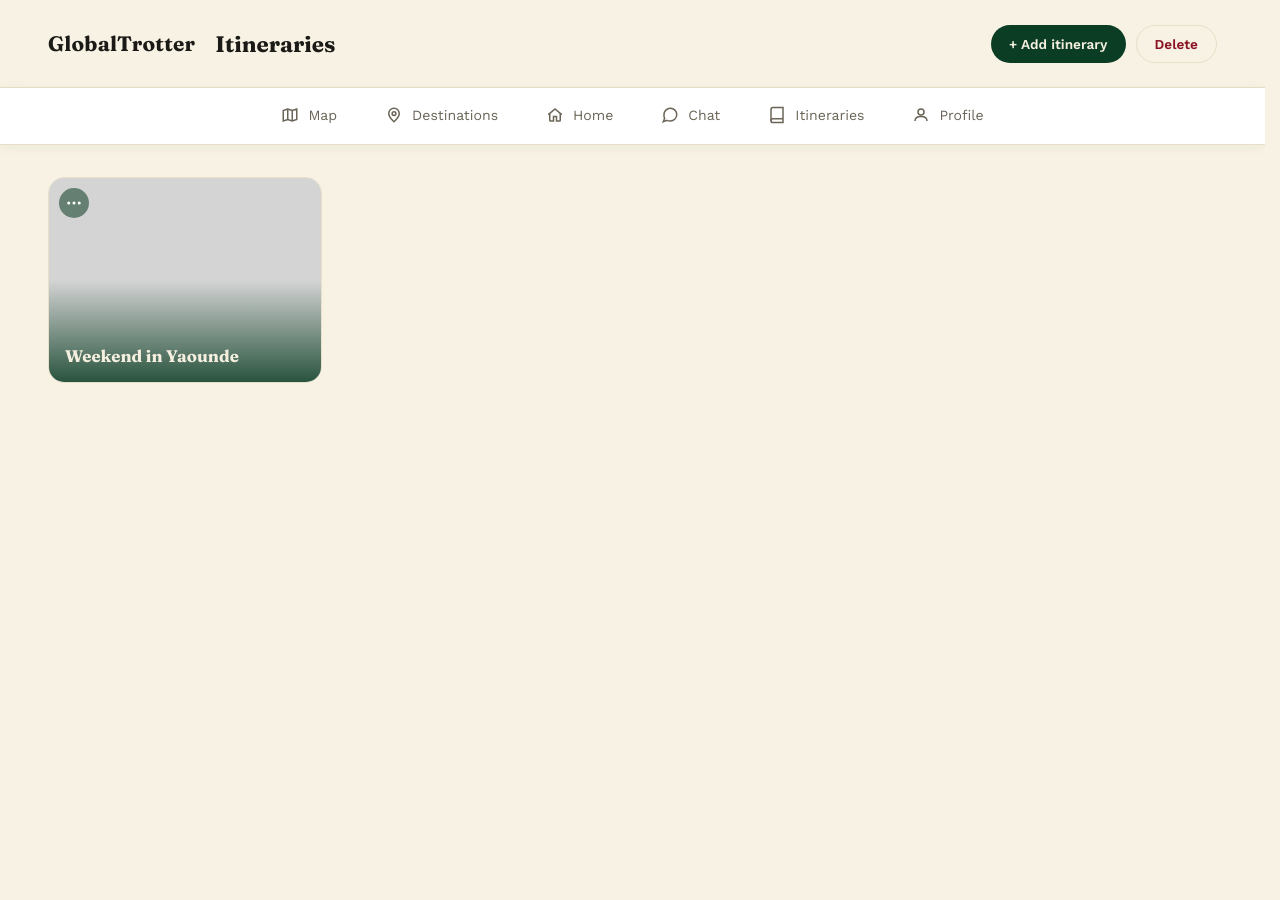
Itineraries › the itineraries options menu opens a delete confirmation dialog
The width and height of the screenshot is (1280, 900).
Expected: the heading "Weekend in Yaounde" is shown, [65,346,239,366]
Step 1. Click the button named "itinerary options" → (74, 203), box [59,188,89,218]
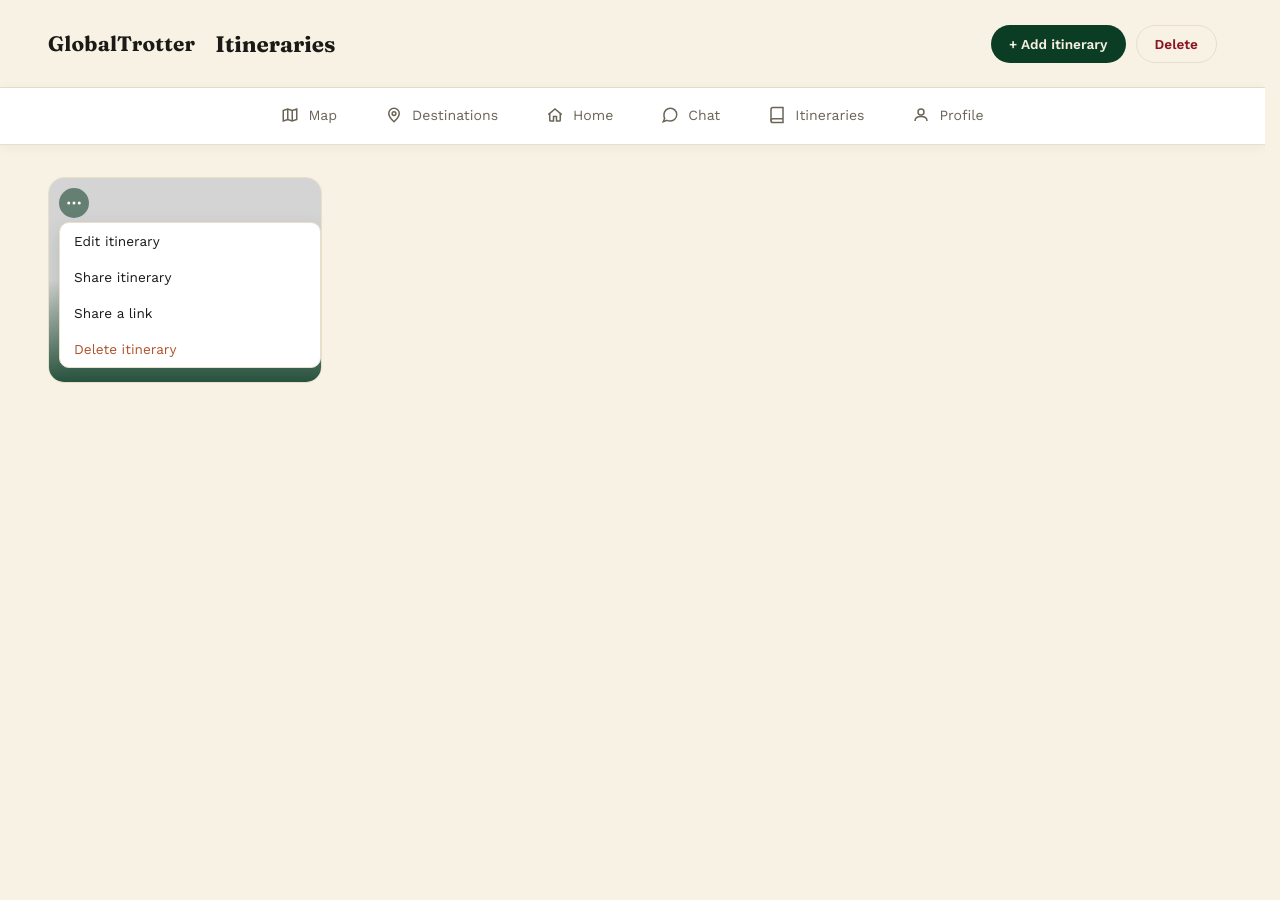
Step 2. Click the button "Delete itinerary" → (125, 349), box [60,331,320,367]
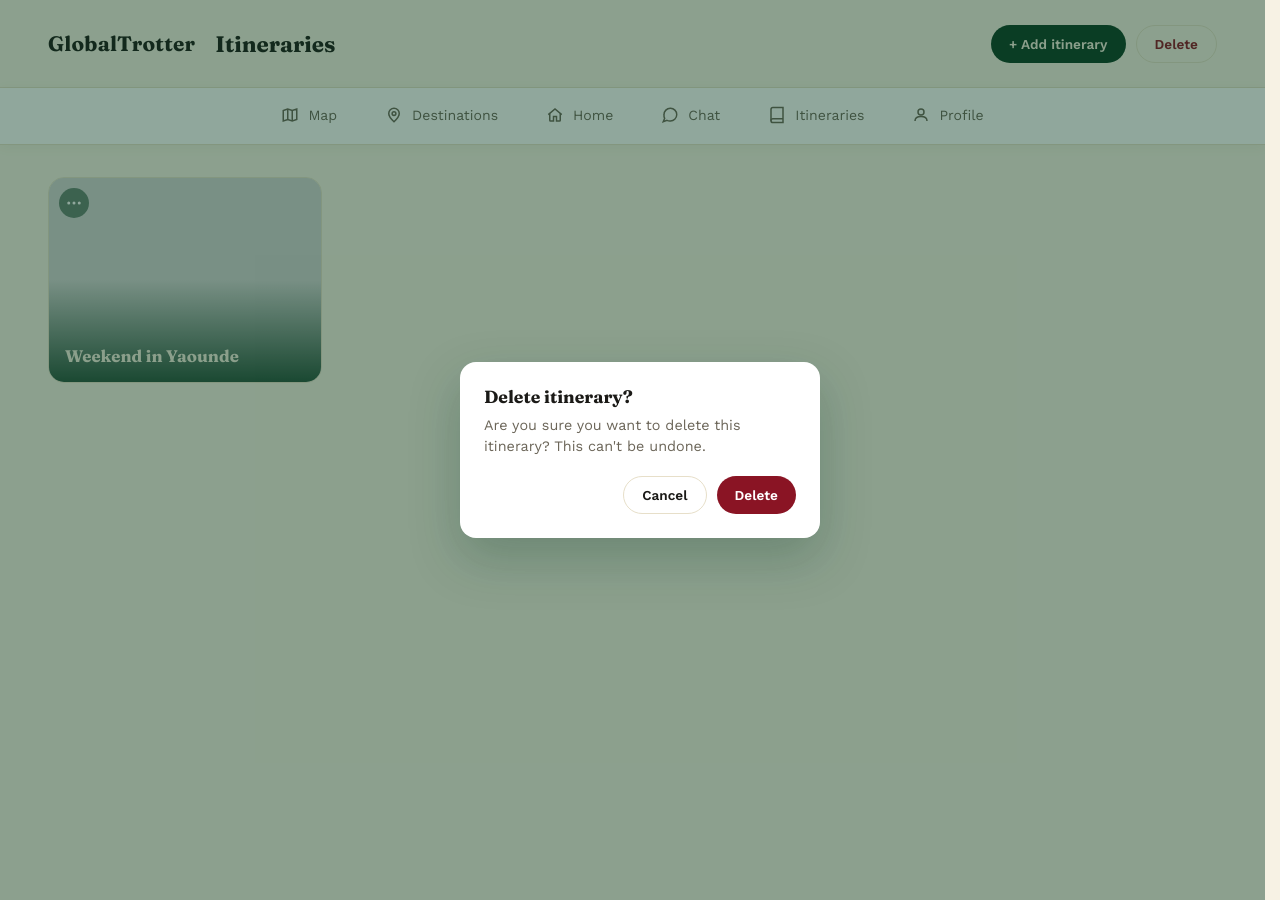
Now the dialog "Delete itinerary?" is shown, box [460,362,820,538]
